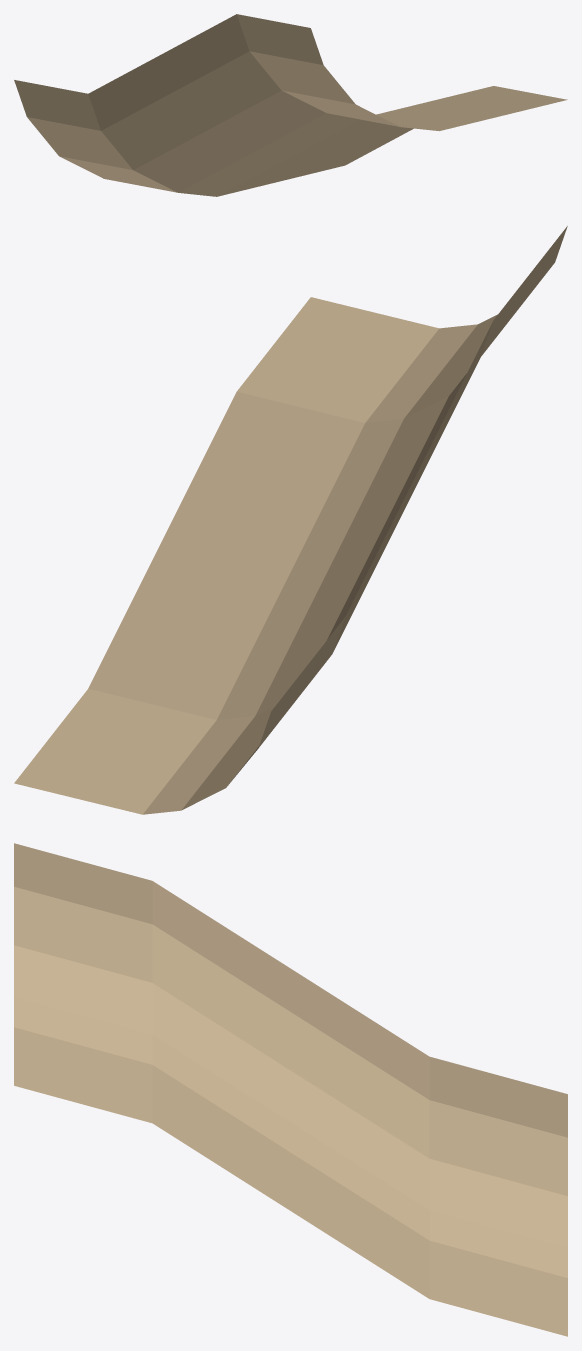
Rendered from Escarpment_Terrain_Hill_Base.obj.
3 renders of one model, top to bottom at view 1: azimuth 30°, elevation 25°; view 2: azimuth 150°, elevation 25°; view 3: azimuth 270°, elevation 25°, orthographic. The views are drawn at different scales.
Parts seen in each view (by area): view 1: object1; view 2: object1; view 3: object1.
Part boxes in pixels (bbox=[...]): object1: bbox=[14, 14, 567, 196]; object1: bbox=[14, 226, 567, 814]; object1: bbox=[14, 843, 567, 1336].
Size of the model in its own units: 1 by 1.5 by 2.
